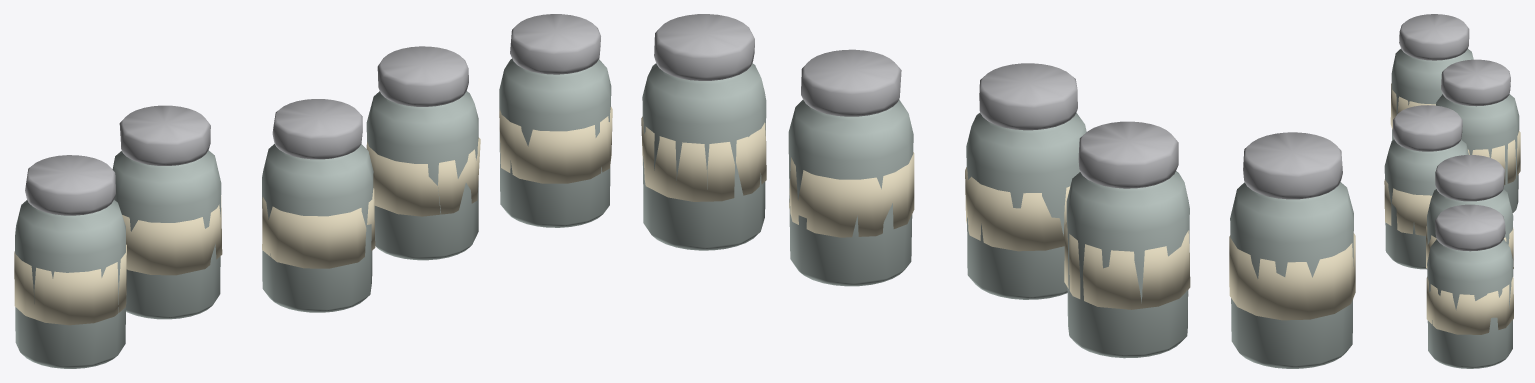
File: pantry_jars.glb
3 views of the same model, side by side, from view 1: azimuth 30°, elevation 25°; view 2: azimuth 150°, elevation 25°; view 3: azimuth 270°, elevation 25° (orthographic). The views are drawn at different scales.
Visible parts, largest first — view 1: pantry_jars; view 2: pantry_jars; view 3: pantry_jars.
Part boxes in pixels (box(x1,y1,x2,y2)): pantry_jars: box(14, 14, 612, 368); pantry_jars: box(641, 14, 1355, 368); pantry_jars: box(1384, 14, 1520, 368).
Size of the model in its own units: 0.5497 by 0.151 by 0.1388.
